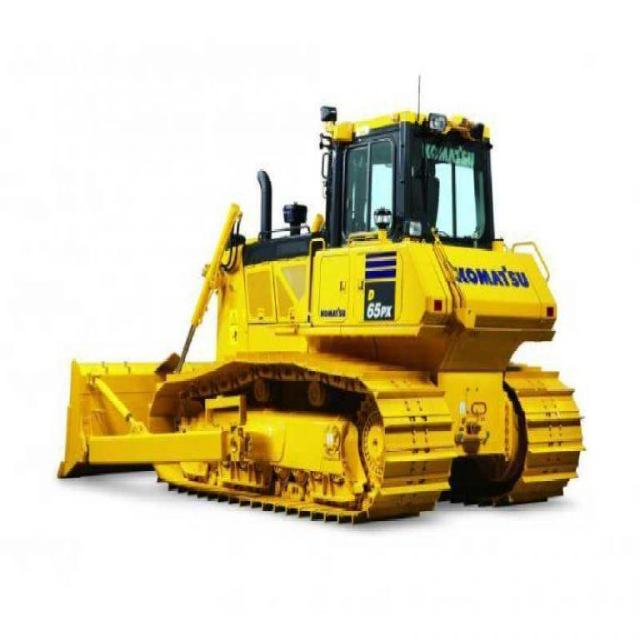buldozerpayloadergrader: (64, 99, 586, 529)
